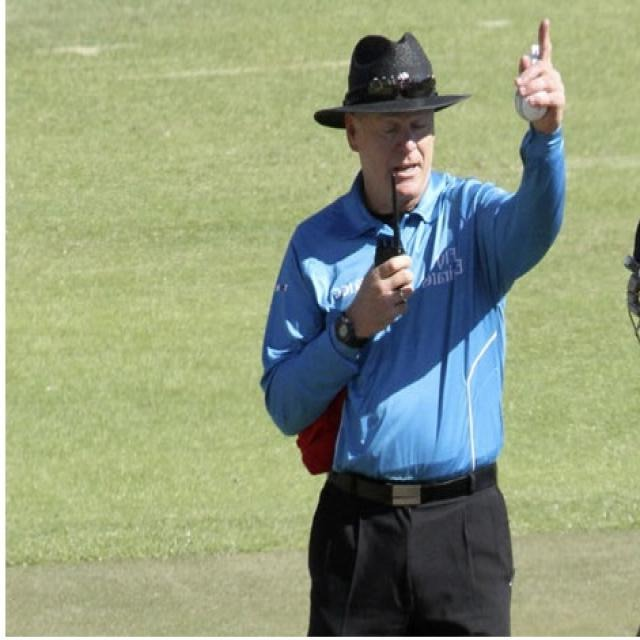Out: (257, 3, 580, 640)
